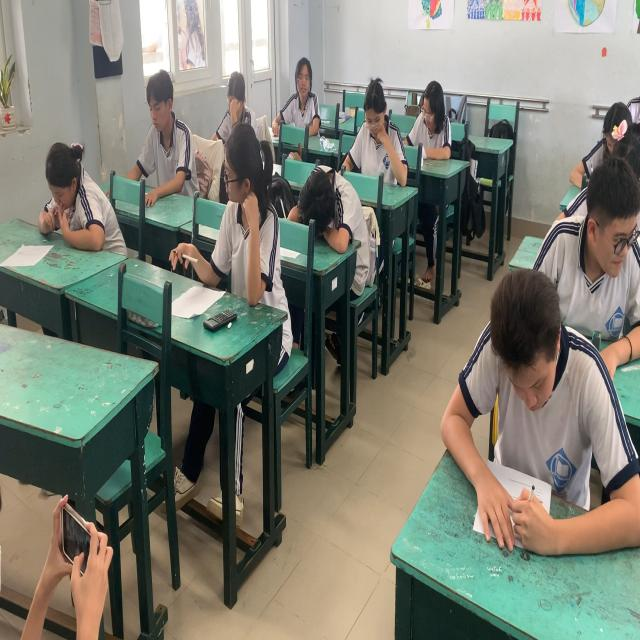cheating: (531, 180, 640, 343)
not_cheating: (438, 271, 640, 561), (34, 132, 128, 264), (211, 133, 286, 294), (127, 70, 200, 202), (351, 77, 401, 174), (411, 63, 460, 160), (278, 53, 325, 128), (213, 64, 255, 132)
